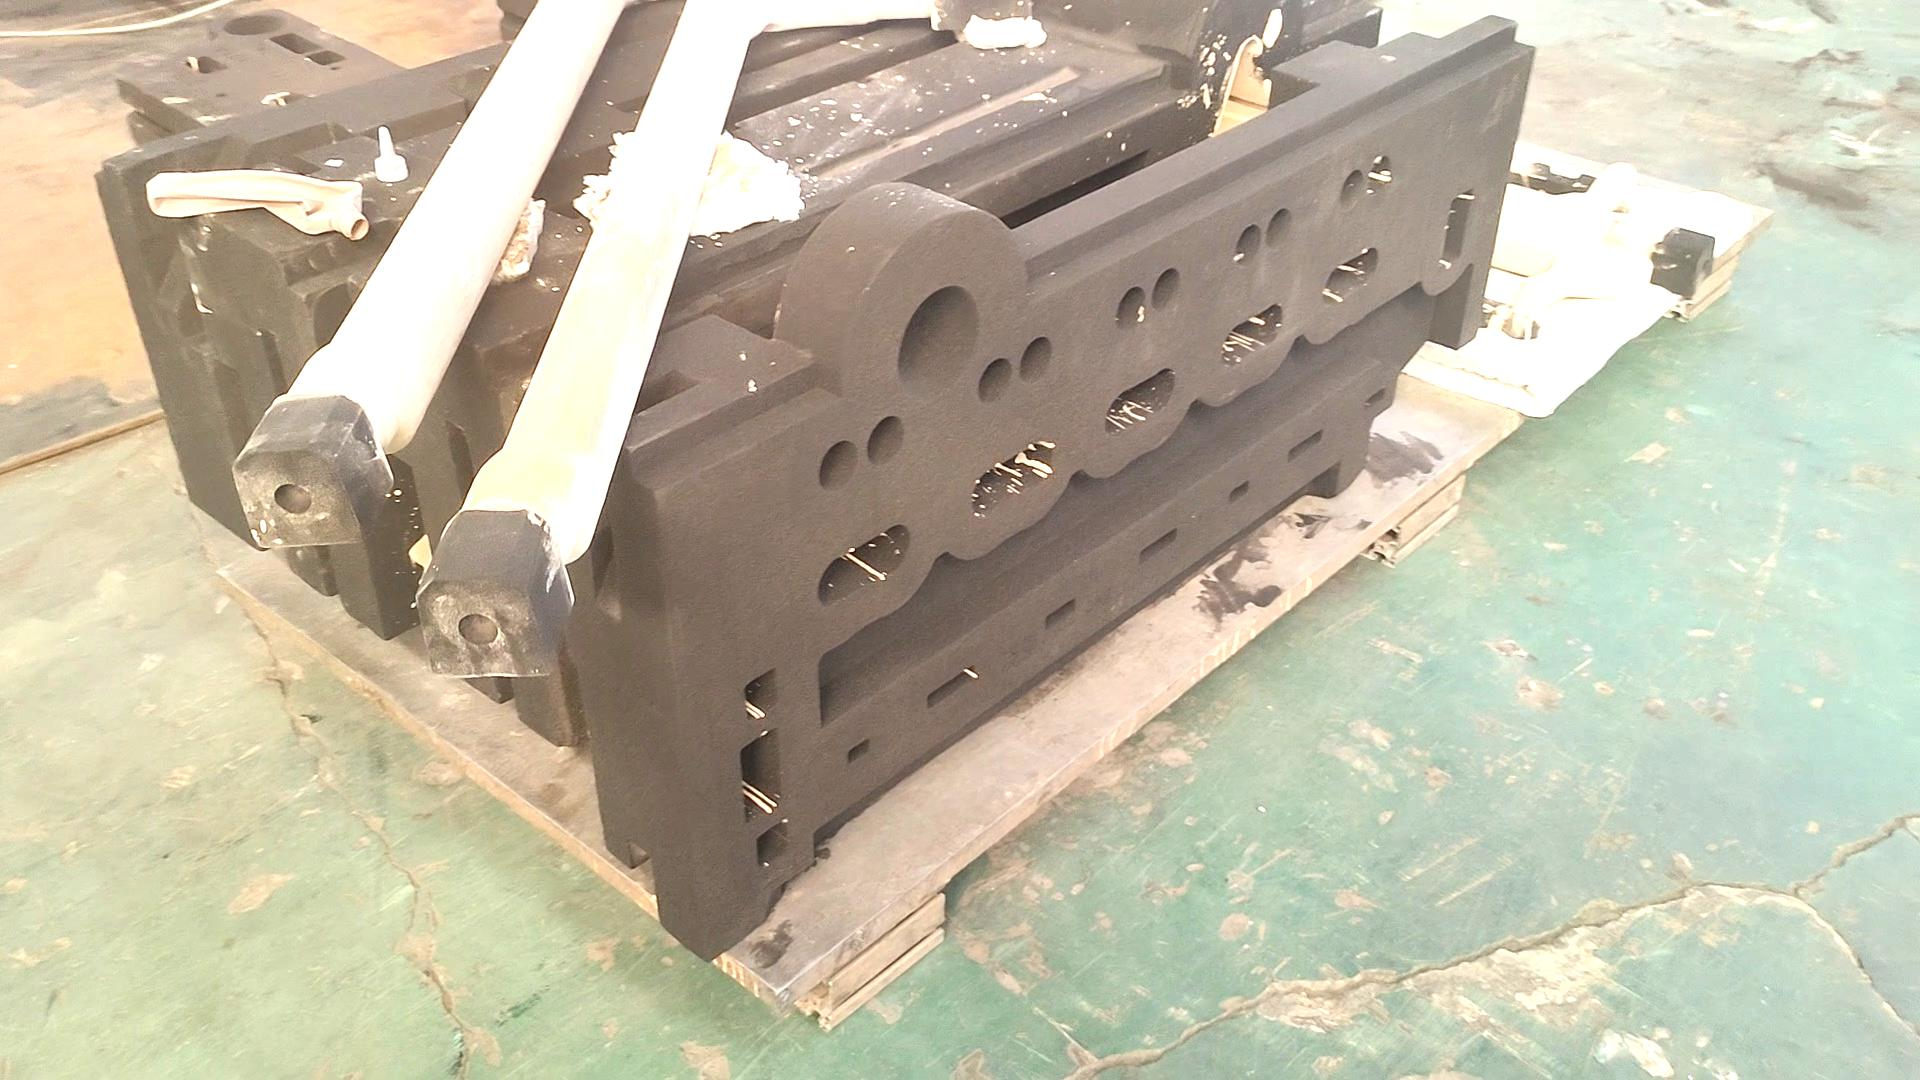pouring hole: (895, 285, 982, 404), (219, 11, 290, 38)
